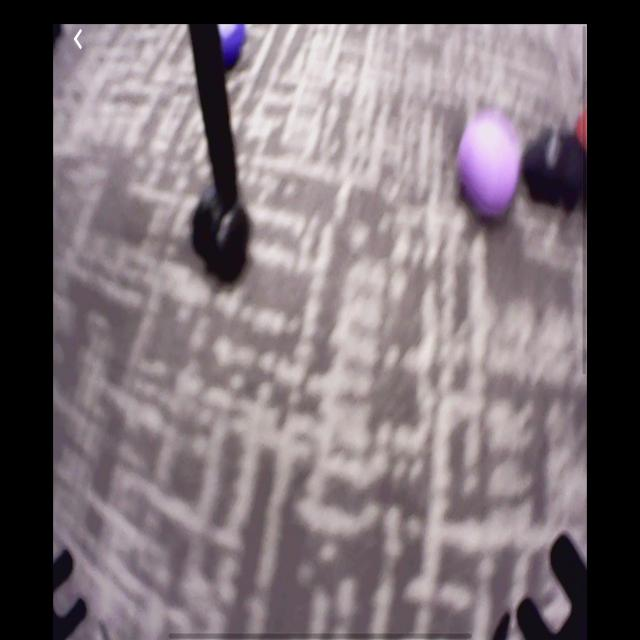ball: (459, 114, 528, 226), (221, 25, 246, 70)
